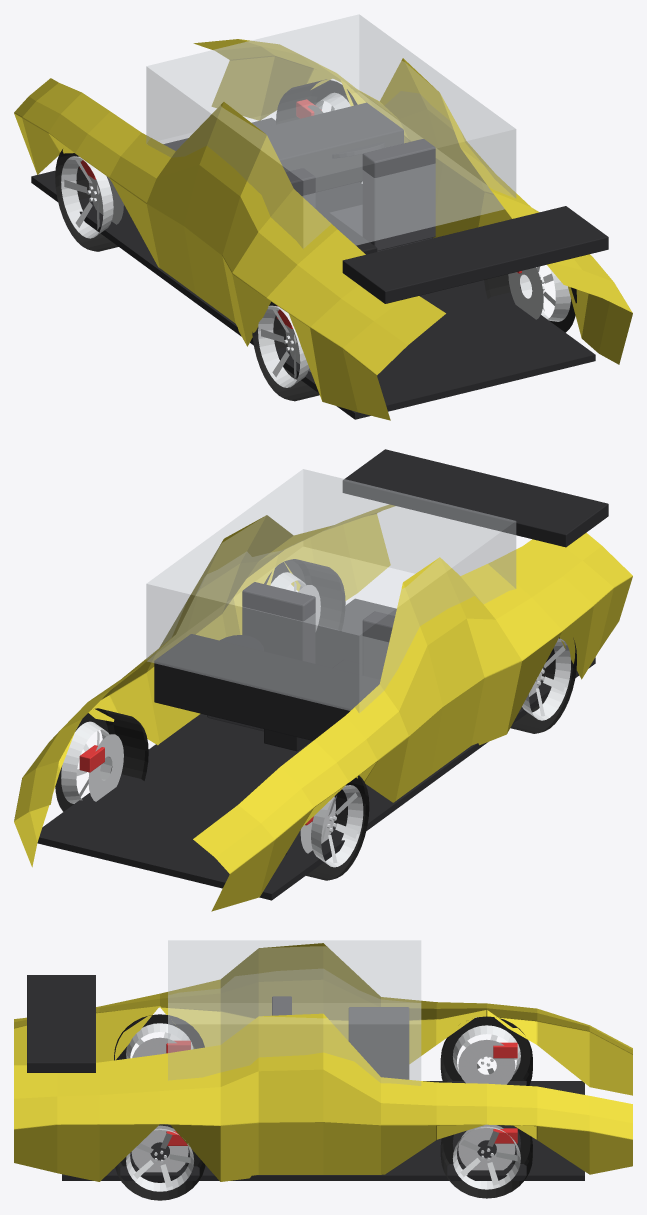
File: vehicle.glb
The picture shows the model from 3 angles, top to bottom: view 1: azimuth 30°, elevation 25°; view 2: azimuth 150°, elevation 25°; view 3: azimuth 270°, elevation 25°; orthographic projection. The views are drawn at different scales.
Visible parts, largest first — view 1: BODY_Porsche_911_Turbo_930_MainShell, GLASS_Porsche_930, CHASSIS_BellyPan, AERO_WhaleTailSpoiler, INTERIOR_SportsSeats, INTERIOR_Dashboard, WHEEL_FR_Rim, WHEEL_RR_Rim, WHEEL_FR_Tire, WHEEL_FL_Tire, WHEEL_RR_Tire, BRAKE_RL_Rotor (+3 smaller); view 2: BODY_Porsche_911_Turbo_930_MainShell, GLASS_Porsche_930, CHASSIS_BellyPan, INTERIOR_Dashboard, AERO_WhaleTailSpoiler, INTERIOR_SportsSeats, WHEEL_FL_Tire, WHEEL_RL_Tire, WHEEL_FR_Rim, WHEEL_FL_Rim, WHEEL_RR_Rim, WHEEL_FR_Tire (+2 smaller); view 3: BODY_Porsche_911_Turbo_930_MainShell, GLASS_Porsche_930, CHASSIS_BellyPan, AERO_WhaleTailSpoiler, INTERIOR_Dashboard, WHEEL_FR_Tire, BRAKE_FR_Rotor, WHEEL_FL_Tire, WHEEL_FL_Rim, WHEEL_RL_Rim, BRAKE_FL_Rotor, BRAKE_RL_Rotor (+7 smaller).
Part boxes in pixels (box(x1,y1,x2,y2)): BODY_Porsche_911_Turbo_930_MainShell: box(14, 39, 632, 420); GLASS_Porsche_930: box(146, 14, 516, 248); CHASSIS_BellyPan: box(31, 118, 595, 419); AERO_WhaleTailSpoiler: box(342, 206, 608, 303); INTERIOR_SportsSeats: box(286, 139, 435, 251); INTERIOR_Dashboard: box(174, 102, 403, 254); WHEEL_FR_Rim: box(61, 156, 113, 238); WHEEL_RR_Rim: box(258, 305, 309, 387); WHEEL_FR_Tire: box(55, 149, 118, 251); WHEEL_FL_Tire: box(276, 79, 361, 182); WHEEL_RR_Tire: box(252, 302, 319, 401); BRAKE_RL_Rotor: box(508, 267, 543, 319); BODY_Porsche_911_Turbo_930_MainShell: box(14, 504, 632, 911); GLASS_Porsche_930: box(146, 469, 516, 712); CHASSIS_BellyPan: box(37, 598, 595, 900); INTERIOR_Dashboard: box(154, 634, 380, 751); AERO_WhaleTailSpoiler: box(342, 449, 608, 547); INTERIOR_SportsSeats: box(207, 582, 395, 731); WHEEL_FL_Tire: box(55, 708, 148, 811); WHEEL_RL_Tire: box(264, 559, 345, 631); WHEEL_FR_Rim: box(311, 785, 363, 867); WHEEL_FL_Rim: box(61, 721, 112, 803); WHEEL_RR_Rim: box(522, 638, 570, 720); WHEEL_FR_Tire: box(285, 775, 369, 880); BODY_Porsche_911_Turbo_930_MainShell: box(14, 943, 632, 1181); GLASS_Porsche_930: box(168, 940, 421, 1085); CHASSIS_BellyPan: box(62, 1081, 584, 1180); AERO_WhaleTailSpoiler: box(27, 975, 95, 1072); INTERIOR_Dashboard: box(348, 1007, 409, 1079); WHEEL_FR_Tire: box(440, 1016, 532, 1085); BRAKE_FR_Rotor: box(458, 1039, 515, 1084); WHEEL_FL_Tire: box(440, 1127, 532, 1198); WHEEL_FL_Rim: box(452, 1126, 520, 1189); WHEEL_RL_Rim: box(126, 1128, 193, 1191); BRAKE_FL_Rotor: box(458, 1124, 515, 1170); BRAKE_RL_Rotor: box(131, 1125, 188, 1172).
Size of what is drawn, in the model's own units: 1.92 by 1.31 by 4.3.
